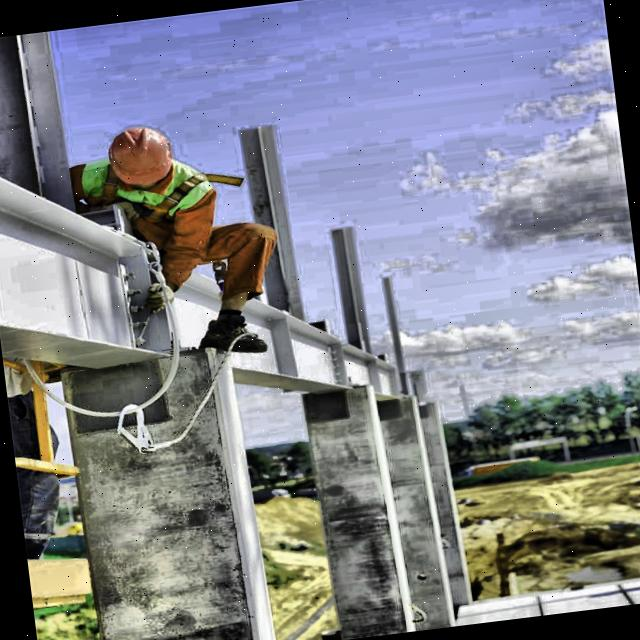helmet: (101, 120, 181, 190)
